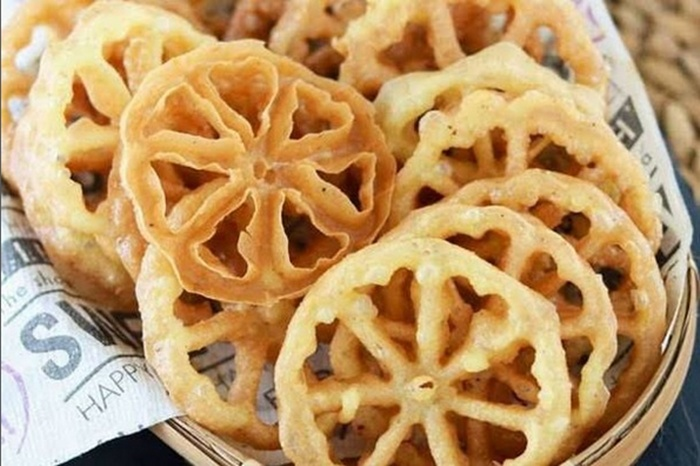kembang_goyang: (116, 36, 393, 314)
